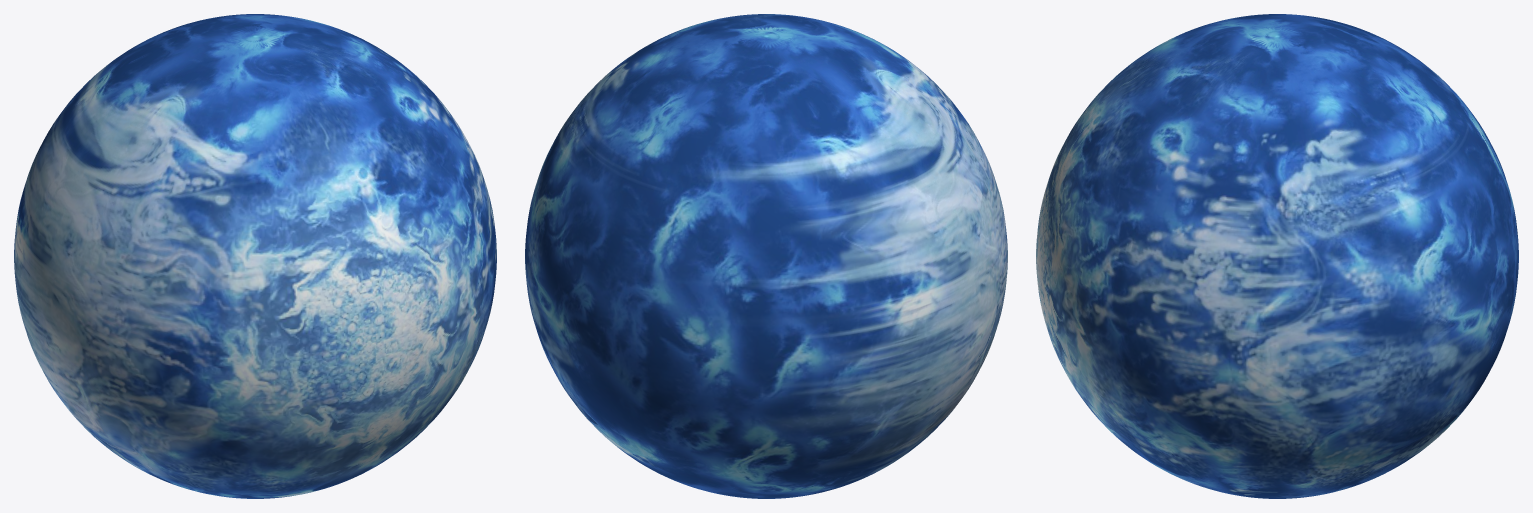
Rendered from Planet2.glb.
The picture shows the model from 3 angles, left to right: view 1: azimuth 30°, elevation 25°; view 2: azimuth 150°, elevation 25°; view 3: azimuth 270°, elevation 25°; orthographic projection.
Visible parts, largest first — view 1: Sphere; view 2: Sphere; view 3: Sphere.
Boxes of the visible parts, box(x1,y1,x2,y2) form: Sphere: box(14, 14, 496, 498); Sphere: box(525, 14, 1007, 498); Sphere: box(1036, 14, 1518, 498).
Bounding box in the file's own units: 1.99 × 2 × 1.99.
1 material, 1 textured.
